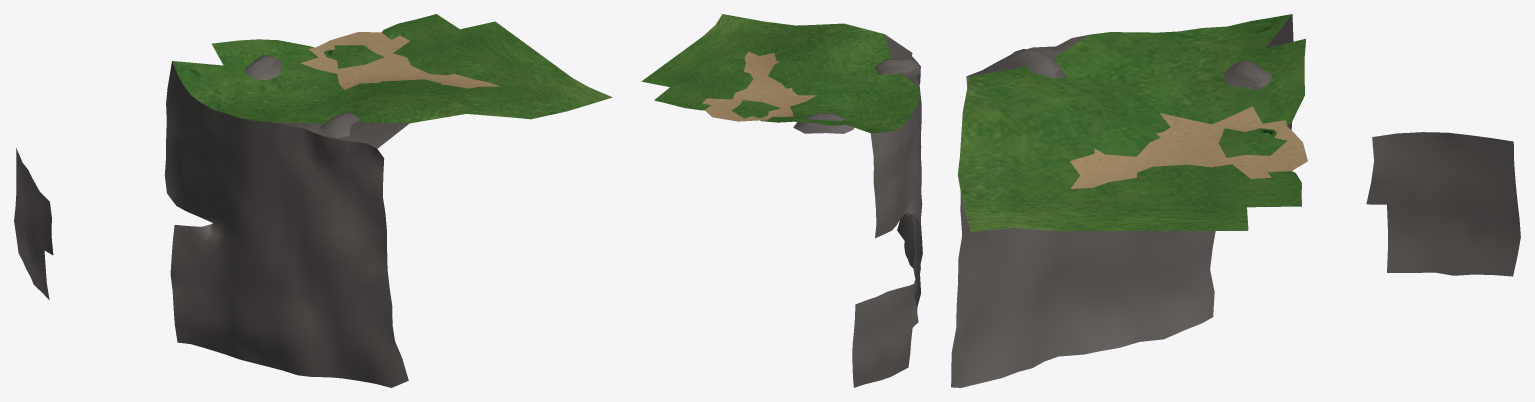
File: SM_ENV_KNFRST_Cliff_E_COL.FBX
3 renders of one model, left to right at view 1: azimuth 30°, elevation 25°; view 2: azimuth 150°, elevation 25°; view 3: azimuth 270°, elevation 25°, orthographic. The views are drawn at different scales.
Parts seen in each view (by area): view 1: SM_ENV_KNFRST_Cliff_E_COL; view 2: SM_ENV_KNFRST_Cliff_E_COL; view 3: SM_ENV_KNFRST_Cliff_E_COL.
Part boxes in pixels (x1,y1,x2,y2): SM_ENV_KNFRST_Cliff_E_COL: [14, 14, 612, 387]; SM_ENV_KNFRST_Cliff_E_COL: [641, 14, 922, 387]; SM_ENV_KNFRST_Cliff_E_COL: [951, 14, 1520, 387].
Size of the model in its own units: 4683 by 2890 by 4521.
